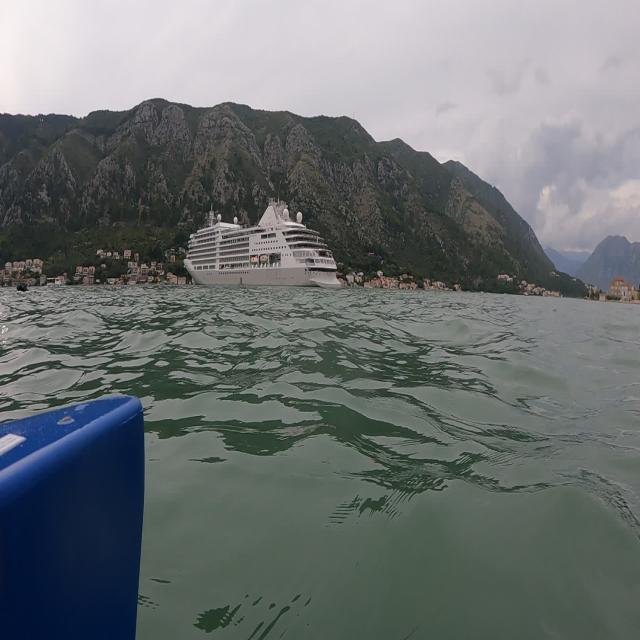boat: (181, 192, 342, 290)
